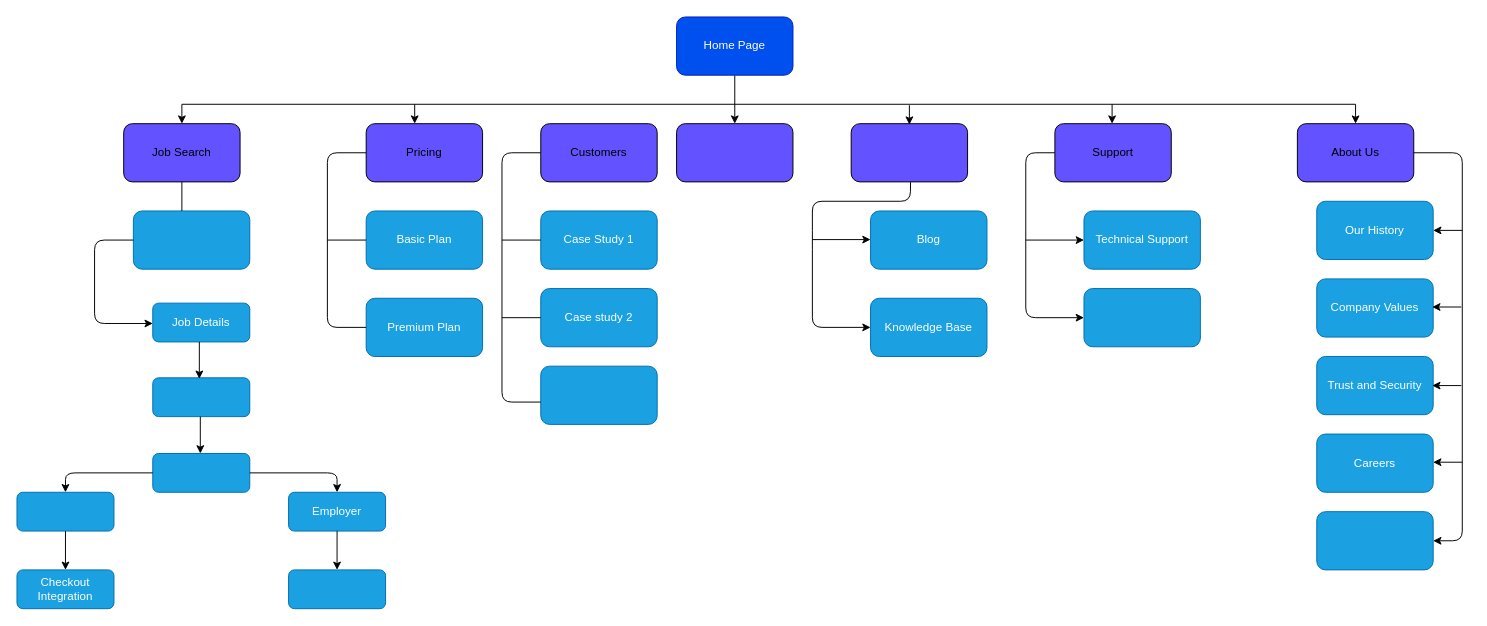
Image size: 1487x626. Some labels were removed from this diagram. Here are the shapes that lost their labels. From the top down, the box of each, then its label:
(676, 123, 793, 182): Enterprise
(850, 123, 968, 182): Resources
(132, 210, 250, 269): Job
(1083, 288, 1200, 347): FAQ
(152, 377, 250, 417): Apply Now
(540, 365, 657, 424): Case study 3
(152, 453, 250, 492): Login
(16, 491, 114, 531): Job Seeker
(1316, 511, 1433, 570): Contact
(288, 569, 386, 609): Post Job
